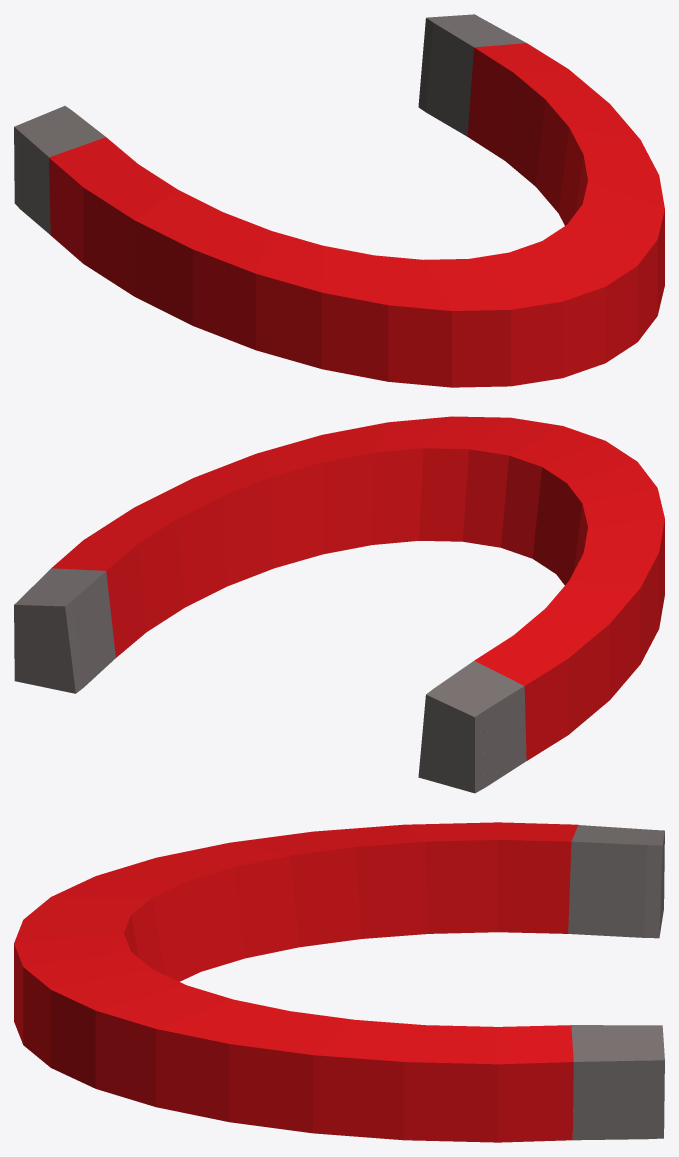
Rendered from magnet.fbx.
3 renders of one model, top to bottom at view 1: azimuth 30°, elevation 25°; view 2: azimuth 150°, elevation 25°; view 3: azimuth 270°, elevation 25°, orthographic. The views are drawn at different scales.
Parts seen in each view (by area): view 1: Cylinder; view 2: Cylinder; view 3: Cylinder.
Part boxes in pixels (box(x1,y1,x2,y2)): Cylinder: box(14, 14, 664, 387); Cylinder: box(14, 416, 664, 793); Cylinder: box(14, 822, 664, 1142).
Bounding box in the file's own units: 129 × 22.38 × 146.
